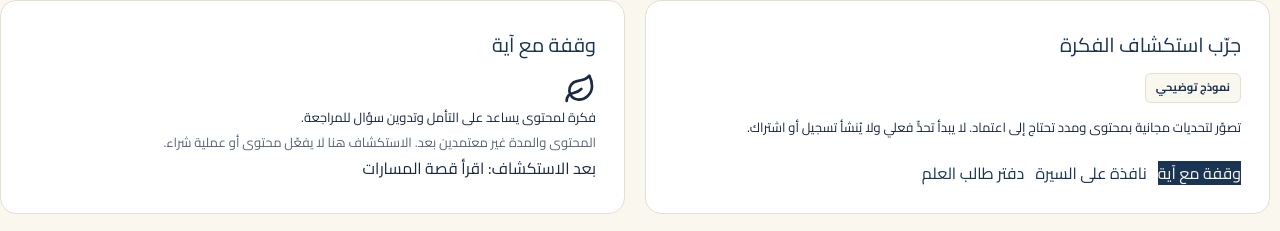
MARKETING-FE-PUBLIC › explores challenge themes without activating content or enrollment
What coordinates should you click on to do the following:
click the button "نافذة على السيرة"
I would click on:
 (1091, 173)
Its box is x1=1035 y1=161 x2=1147 y2=185.
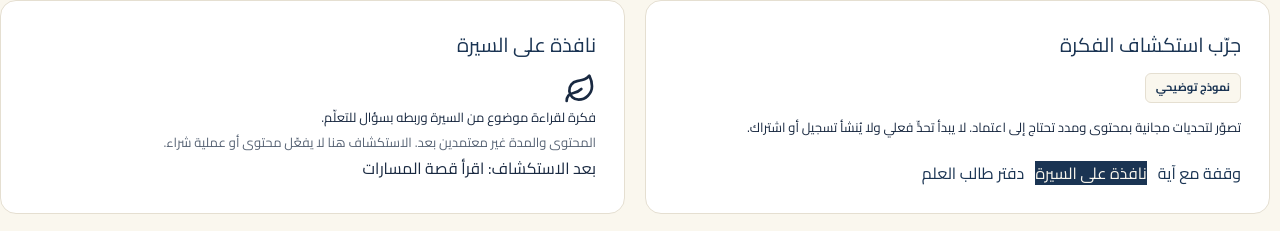
Expected: the text "المحتوى والمدة غير معتمدين" is shown, x1=164 y1=130 x2=596 y2=154
Expected: the heading "نافذة على السيرة" is shown, x1=457 y1=26 x2=596 y2=63
